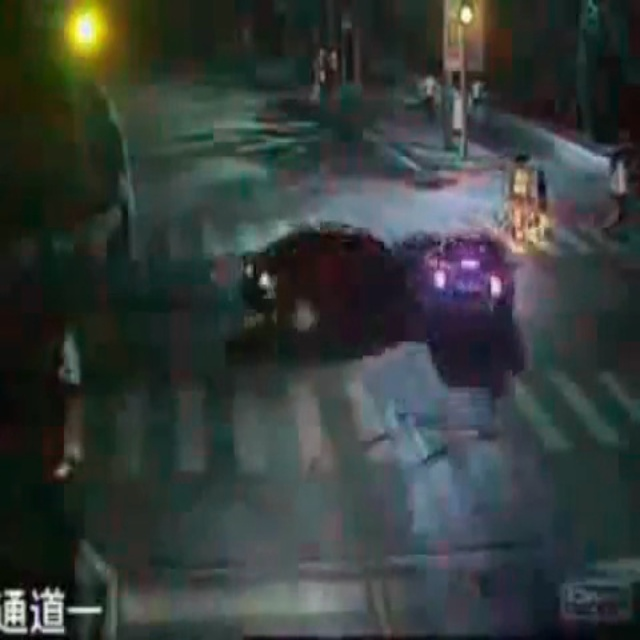acc: (237, 219, 510, 348)
